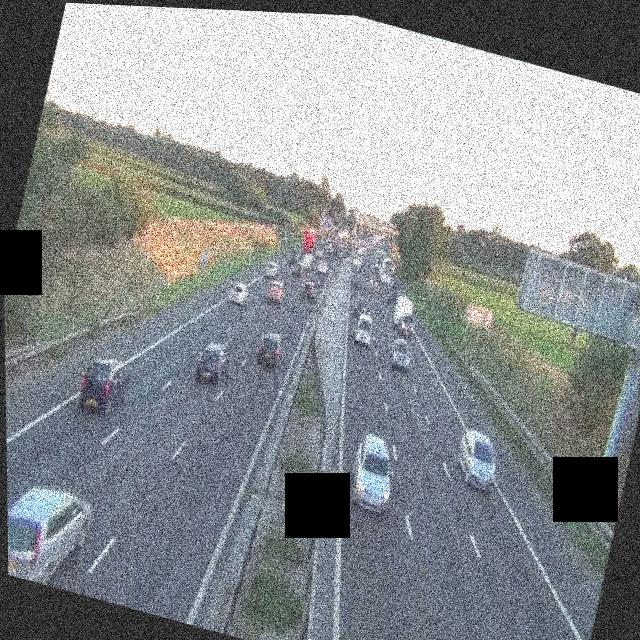car: (7, 473, 95, 593), (344, 430, 401, 513), (74, 351, 133, 420), (450, 426, 503, 494), (191, 337, 233, 387), (253, 329, 285, 370), (388, 336, 414, 371), (351, 314, 374, 346), (227, 280, 249, 306), (265, 280, 285, 306), (297, 280, 315, 301), (352, 294, 368, 316), (263, 261, 279, 280), (352, 274, 365, 291), (316, 259, 328, 276), (371, 272, 381, 285)
truck: (389, 293, 417, 336), (299, 226, 318, 257), (382, 260, 398, 287), (300, 251, 314, 272)
